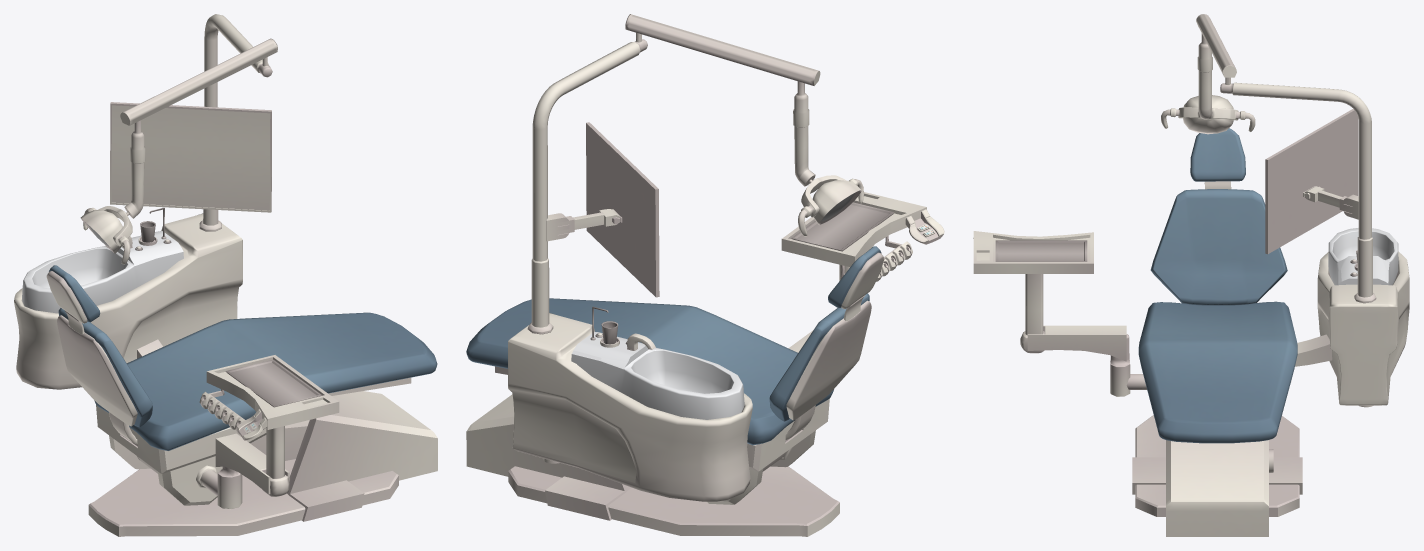
File: dental_chair_animate_backrest.fbx
The picture shows the model from 3 angles, left to right: view 1: azimuth 30°, elevation 25°; view 2: azimuth 150°, elevation 25°; view 3: azimuth 270°, elevation 25°; orthographic projection. The views are drawn at different scales.
Visible parts, largest first — view 1: base, seat, pasted__pCube47, tv, sink, backrest, polySurface1, pCube47, light, tray, post, unit (+12 smaller); view 2: pasted__pCube47, base, seat, sink, tv, post, backrest, light, polySurface1, tray, pCube12, pCube47 (+9 smaller); view 3: seat, base, pCube12, pasted__pCube47, tv, post, polySurface1, sink, mounted_holder, pCube13, tray, pCylinder7 (+6 smaller).
Part boxes in pixels (x1,y1,x2,y2): base: (88, 391, 437, 536); seat: (94, 312, 437, 450); pasted__pCube47: (14, 213, 242, 389); tv: (110, 102, 271, 212); sink: (22, 231, 183, 313); backrest: (57, 315, 137, 444); polySurface1: (206, 355, 339, 429); pCube47: (96, 377, 411, 473); light: (120, 38, 277, 125); tray: (225, 359, 321, 407); post: (199, 14, 272, 231); unit: (109, 435, 222, 505); pasted__pCube47: (508, 313, 752, 501); base: (466, 394, 839, 536); seat: (466, 298, 833, 445); sink: (571, 331, 744, 419); tv: (586, 122, 659, 297); post: (527, 32, 647, 334); backrest: (785, 300, 871, 439); light: (625, 14, 820, 85); polySurface1: (781, 192, 926, 266); tray: (791, 202, 894, 251); pCube12: (769, 293, 869, 421); pCube47: (495, 366, 829, 471); seat: (1138, 301, 1297, 443); base: (1132, 415, 1302, 536); pCube12: (1150, 189, 1287, 305); pasted__pCube47: (1317, 251, 1409, 405); tv: (1265, 108, 1358, 254); post: (1220, 77, 1376, 303); polySurface1: (973, 231, 1093, 273); sink: (1328, 228, 1398, 285); mounted_holder: (1027, 325, 1126, 361); pCube13: (1190, 128, 1245, 181); tray: (995, 240, 1087, 261); pCylinder7: (1020, 274, 1044, 353).
Size of the model in its own units: 171 by 198 by 190.
